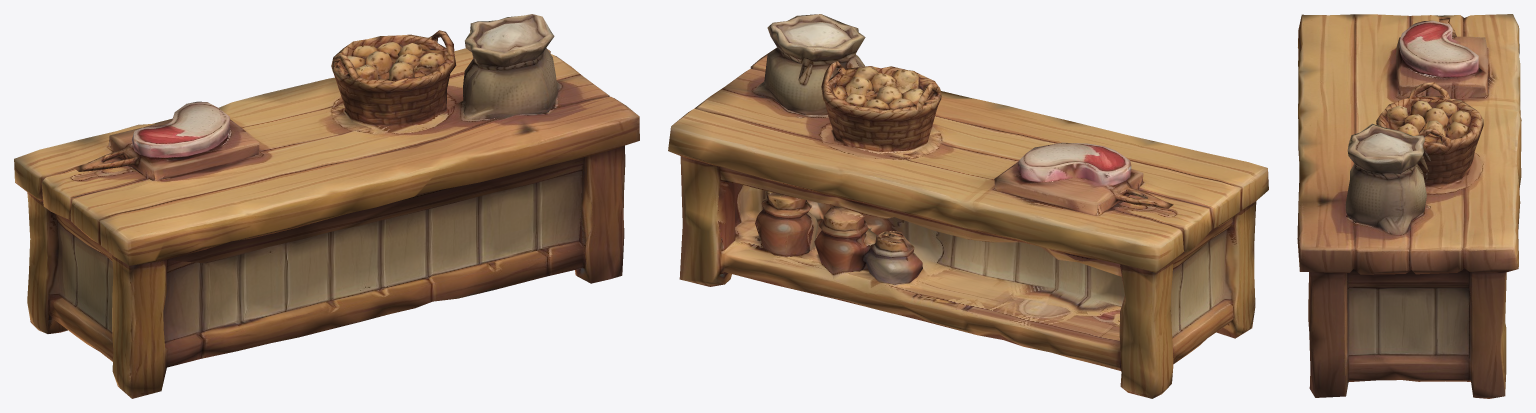
File: SM_Env_KitchenCounter.fbx
3 renders of one model, left to right at view 1: azimuth 30°, elevation 25°; view 2: azimuth 150°, elevation 25°; view 3: azimuth 270°, elevation 25°, orthographic. The views are drawn at different scales.
Parts seen in each view (by area): view 1: SM_Env_KitchenCounter; view 2: SM_Env_KitchenCounter; view 3: SM_Env_KitchenCounter.
Part boxes in pixels (x1,y1,x2,y2): SM_Env_KitchenCounter: (14,14,639,398); SM_Env_KitchenCounter: (668,14,1268,398); SM_Env_KitchenCounter: (1297,14,1521,398).
Bounding box in the file's own units: 2 × 0.9 × 0.8.
